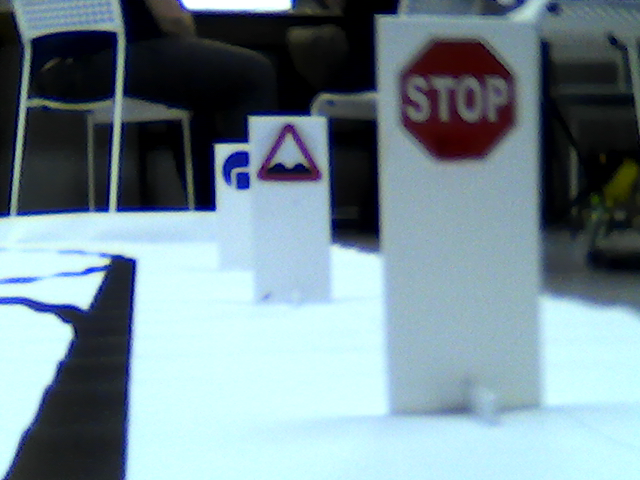Nerov: (255, 126, 321, 185)
Stop: (403, 38, 518, 166)
